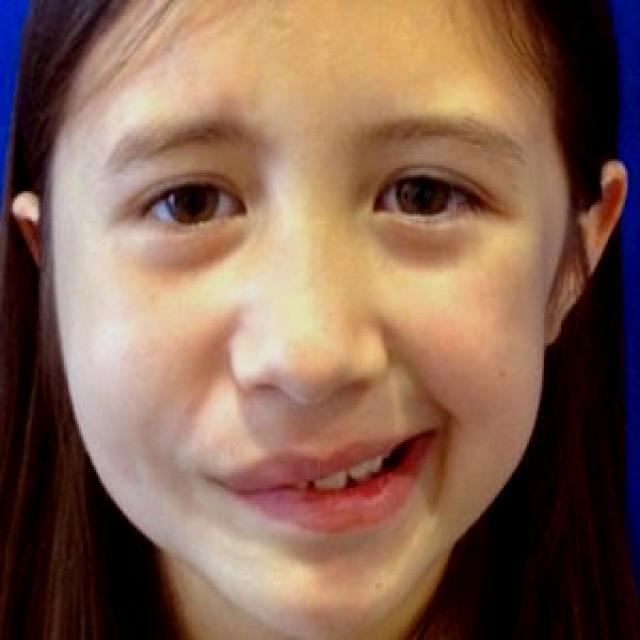stroke_face: (16, 0, 627, 632)
